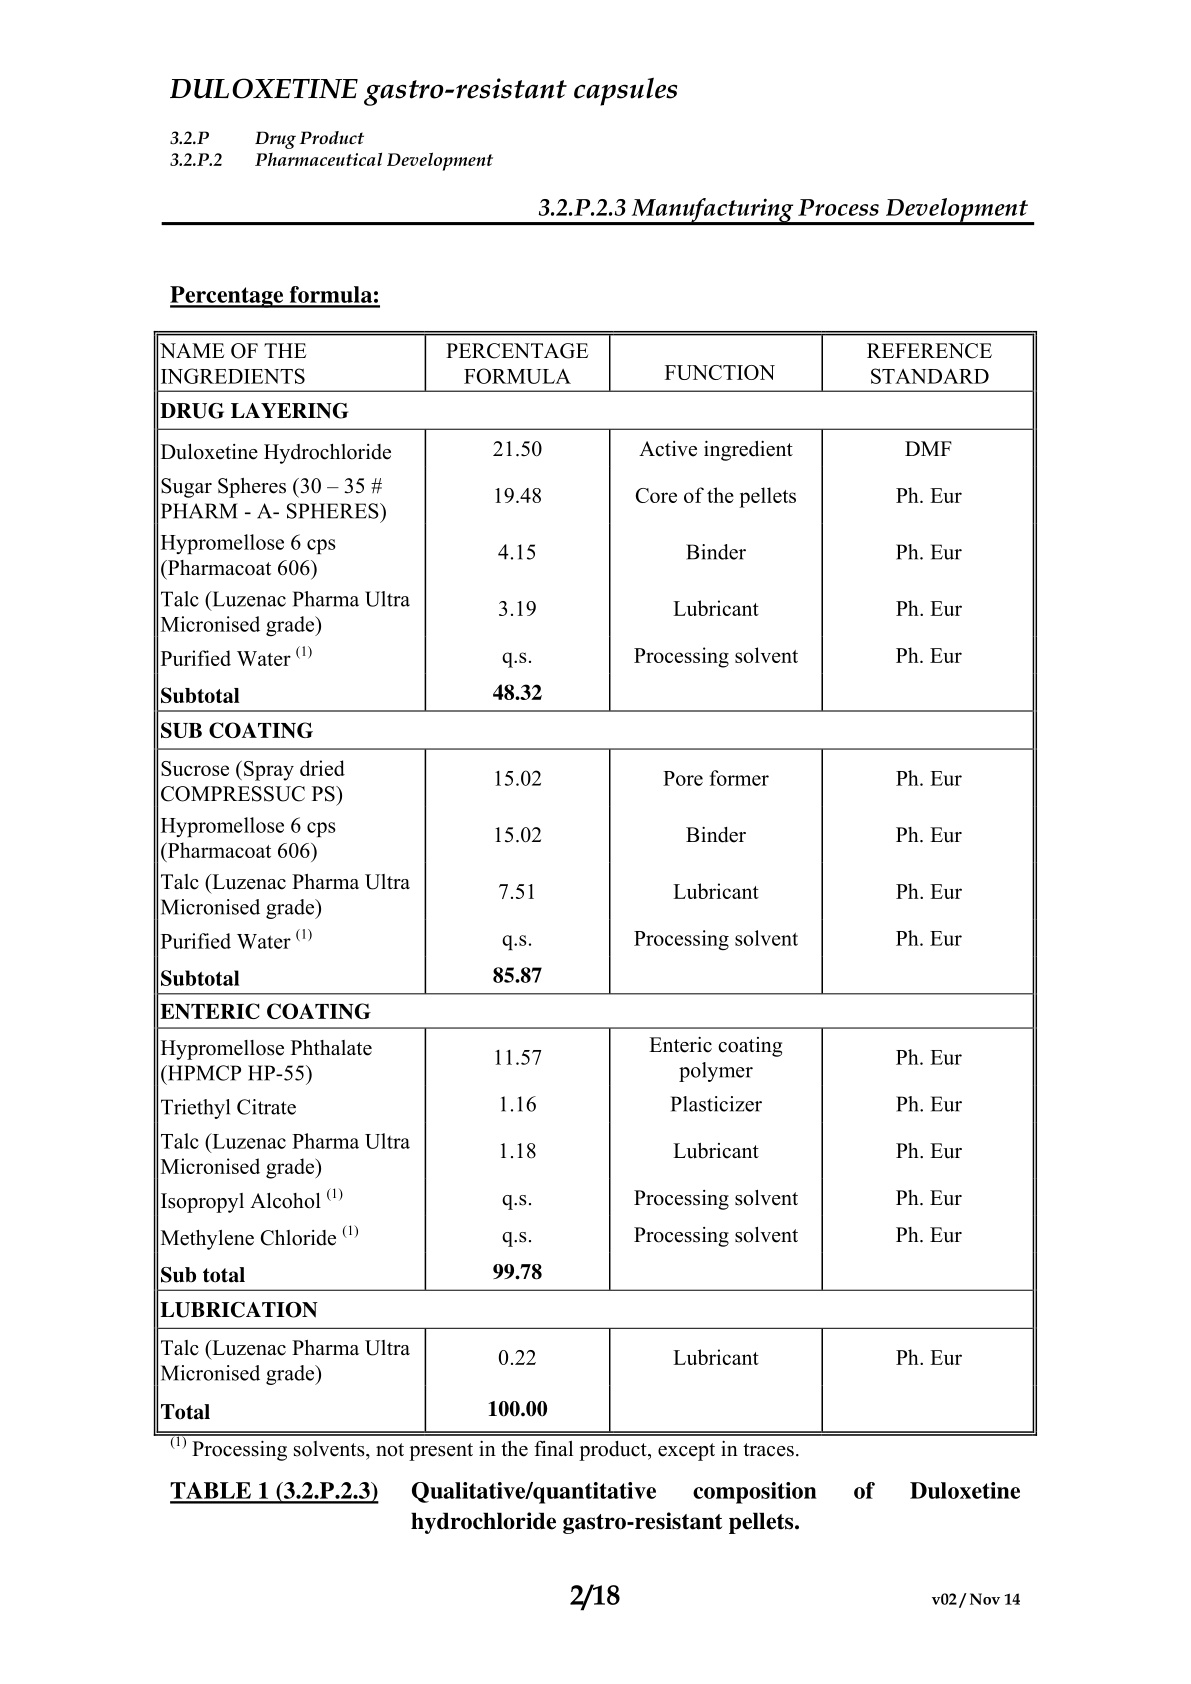partial_lined_merged_cells: (153, 331, 1038, 1437)
